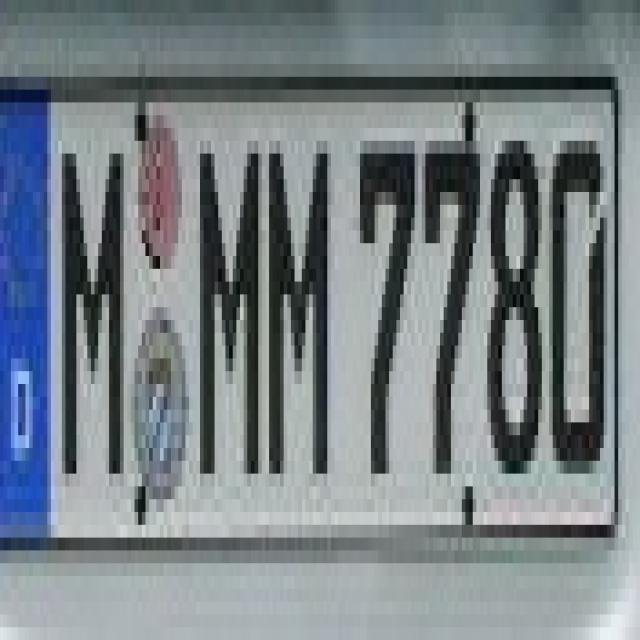0: (542, 90, 611, 499)
7: (353, 90, 422, 512), (422, 102, 484, 486)
8: (484, 116, 546, 487)
M: (47, 90, 131, 512), (193, 115, 262, 499), (266, 128, 334, 512)
